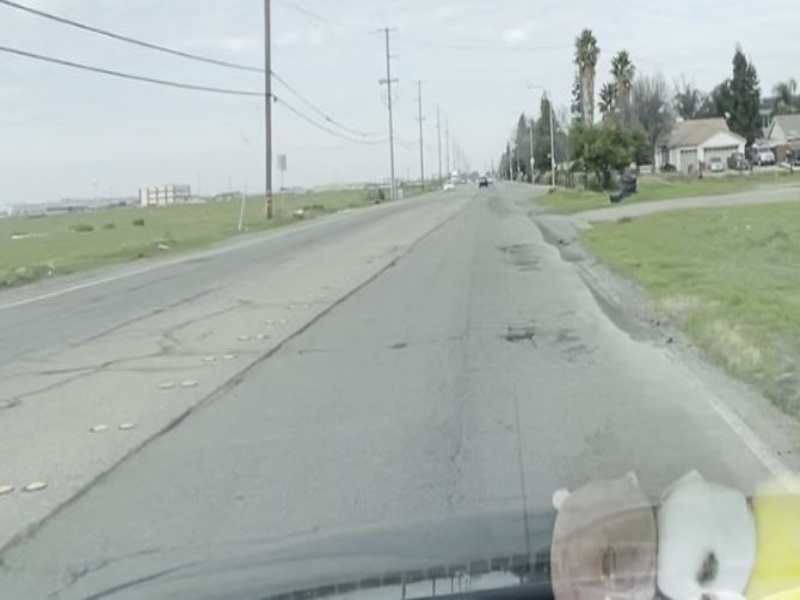pothole: (498, 330, 536, 344), (387, 338, 407, 351)
